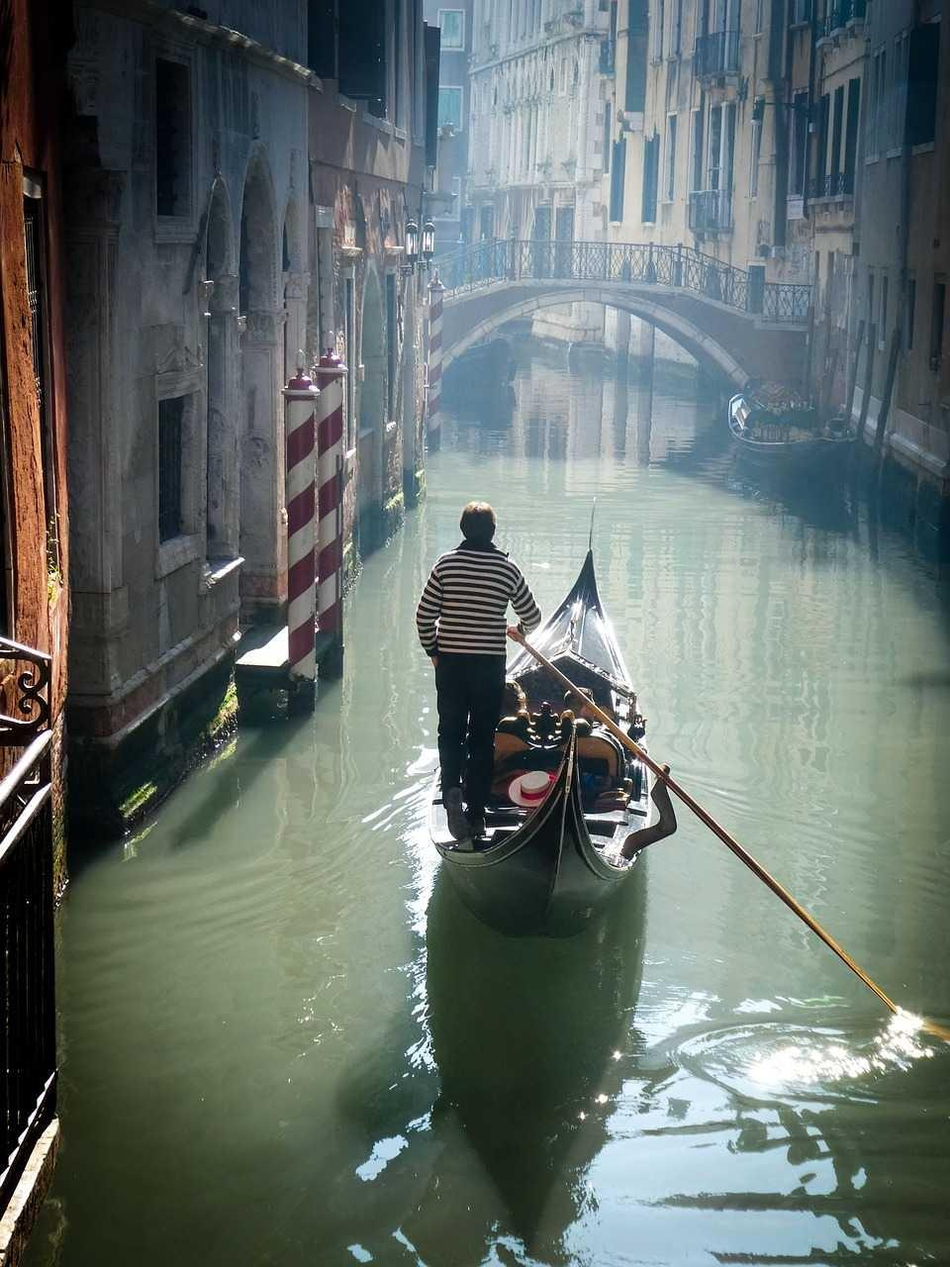kayak: (427, 548, 658, 938), (725, 379, 856, 480)
